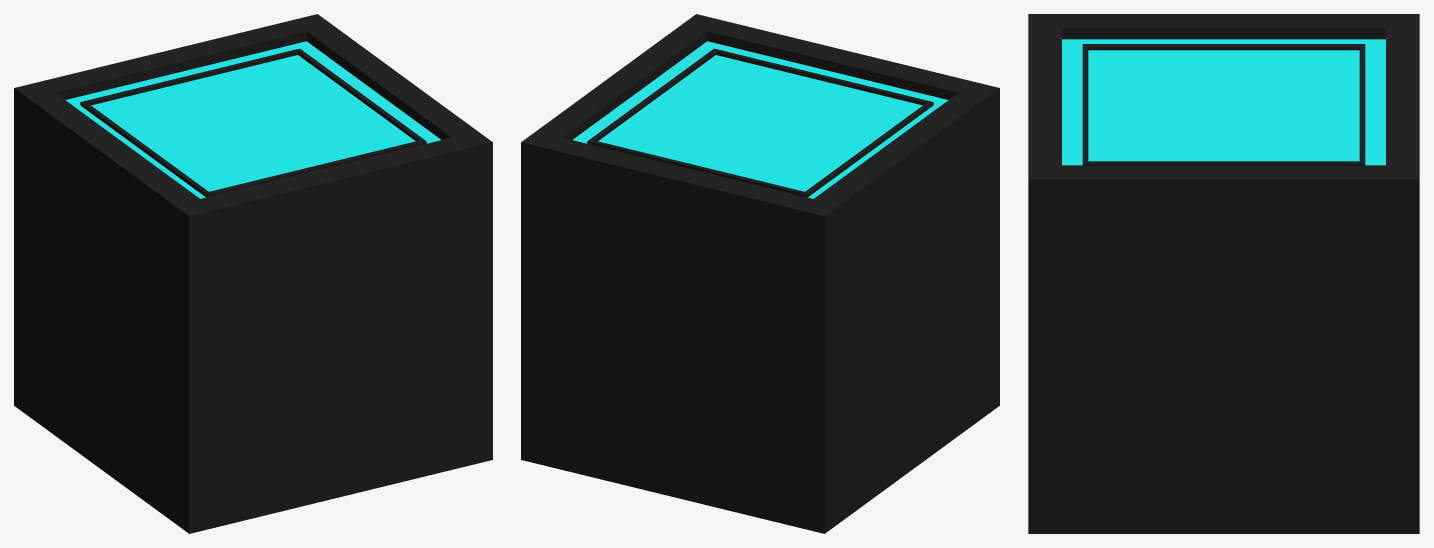
File: StageSelect_Clear.fbx
The picture shows the model from 3 angles, left to right: view 1: azimuth 30°, elevation 25°; view 2: azimuth 150°, elevation 25°; view 3: azimuth 270°, elevation 25°; orthographic projection. The views are drawn at different scales.
Parts seen in each view (by area): view 1: Cube; view 2: Cube; view 3: Cube.
Part boxes in pixels (x1=…): Cube: x1=14, y1=14, x2=492, y2=533; Cube: x1=521, y1=14, x2=999, y2=533; Cube: x1=1028, y1=14, x2=1419, y2=533.
Size of the model in its own units: 1 by 1 by 1.
